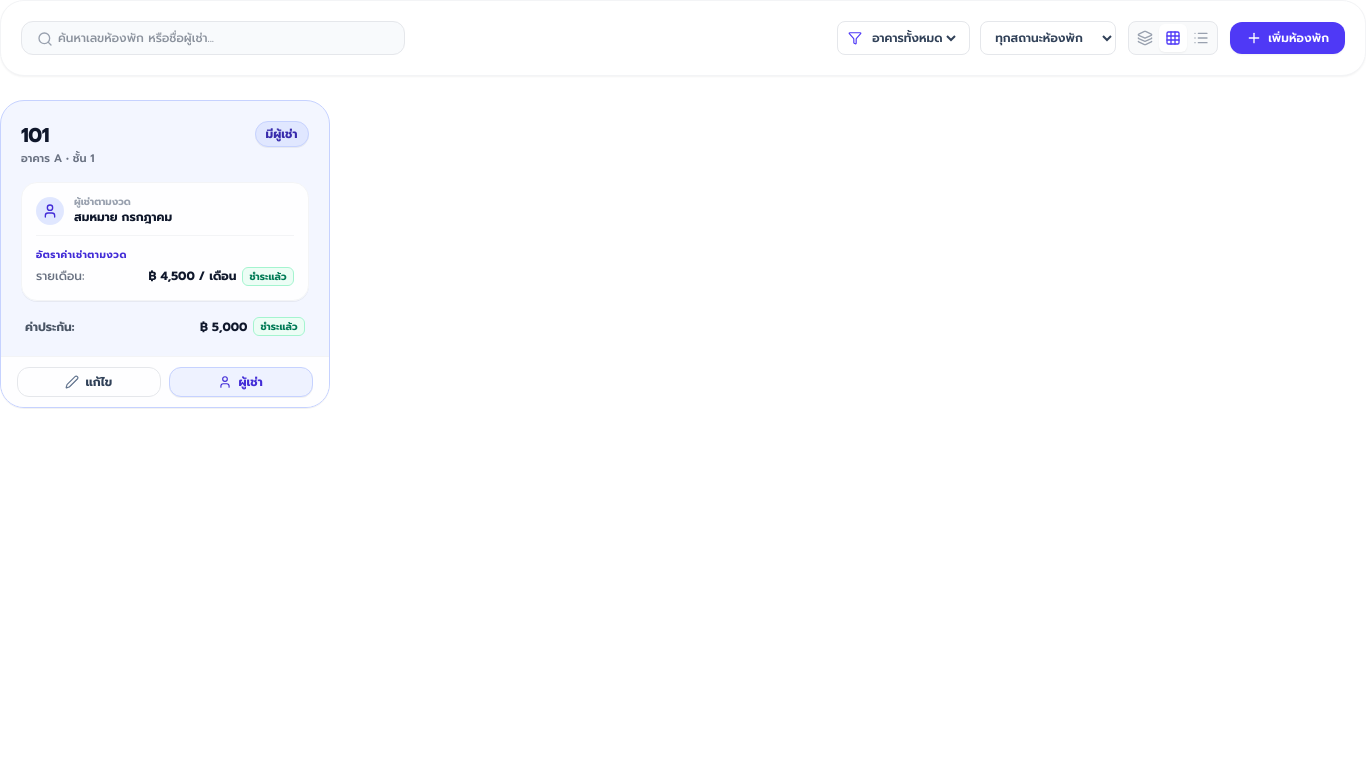
Test: OWNER ROOMS R2 & R2.1 — Rent-Cycle Deposit Model & Hardened Specifications › Section 11: Owner Rooms R3.4 — Payment Semantics, Maintenance Guard & UX › T1 — EDIT ROOM MODAL: disables maintenance button when room is currently occupied
Click the button titled "แก้ไขรายละเอียดห้องพัก": click(89, 382) top-left (17, 368), bottom-right (161, 398)
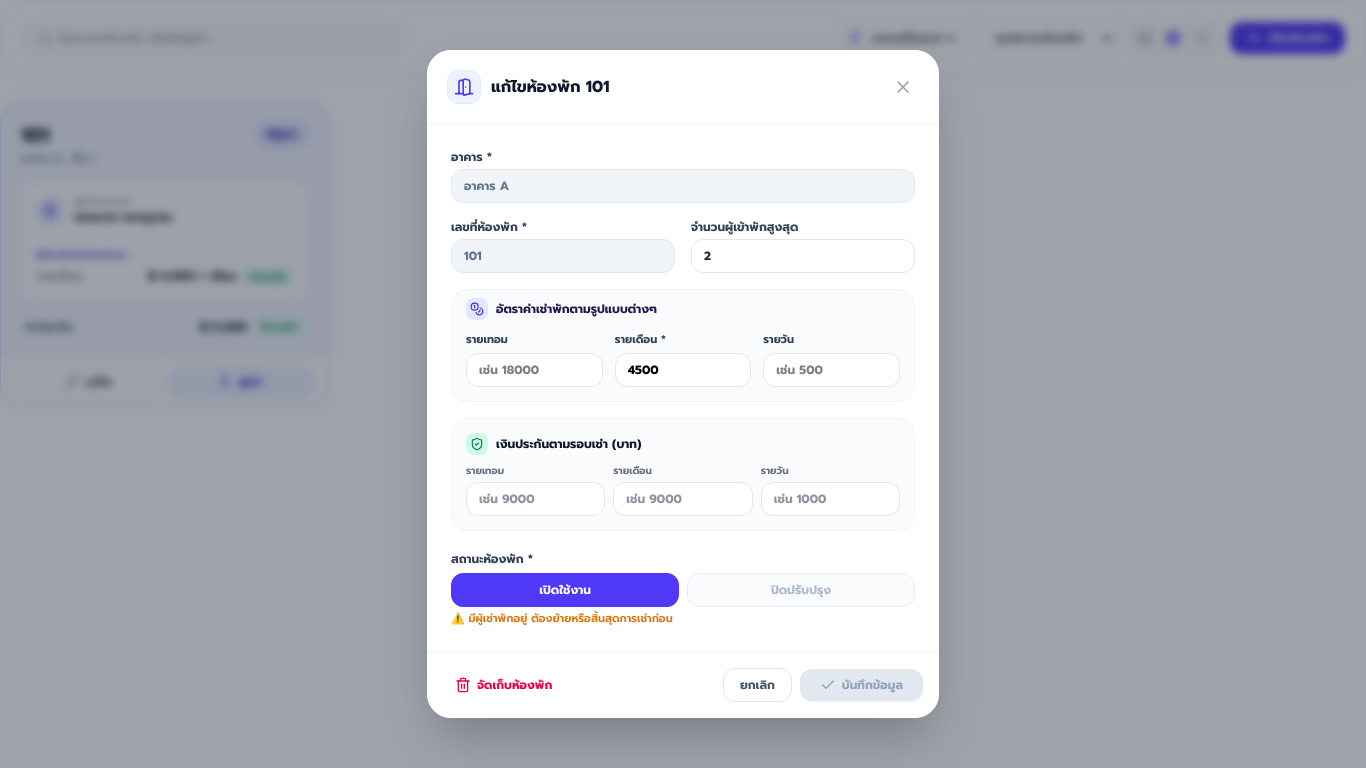
Expected: the button titled "มีผู้เช่าพักอยู่ ต้องย้ายหรือสิ้นสุดการเช่าก่อน" is disabled, top-left (687, 572), bottom-right (915, 606)
